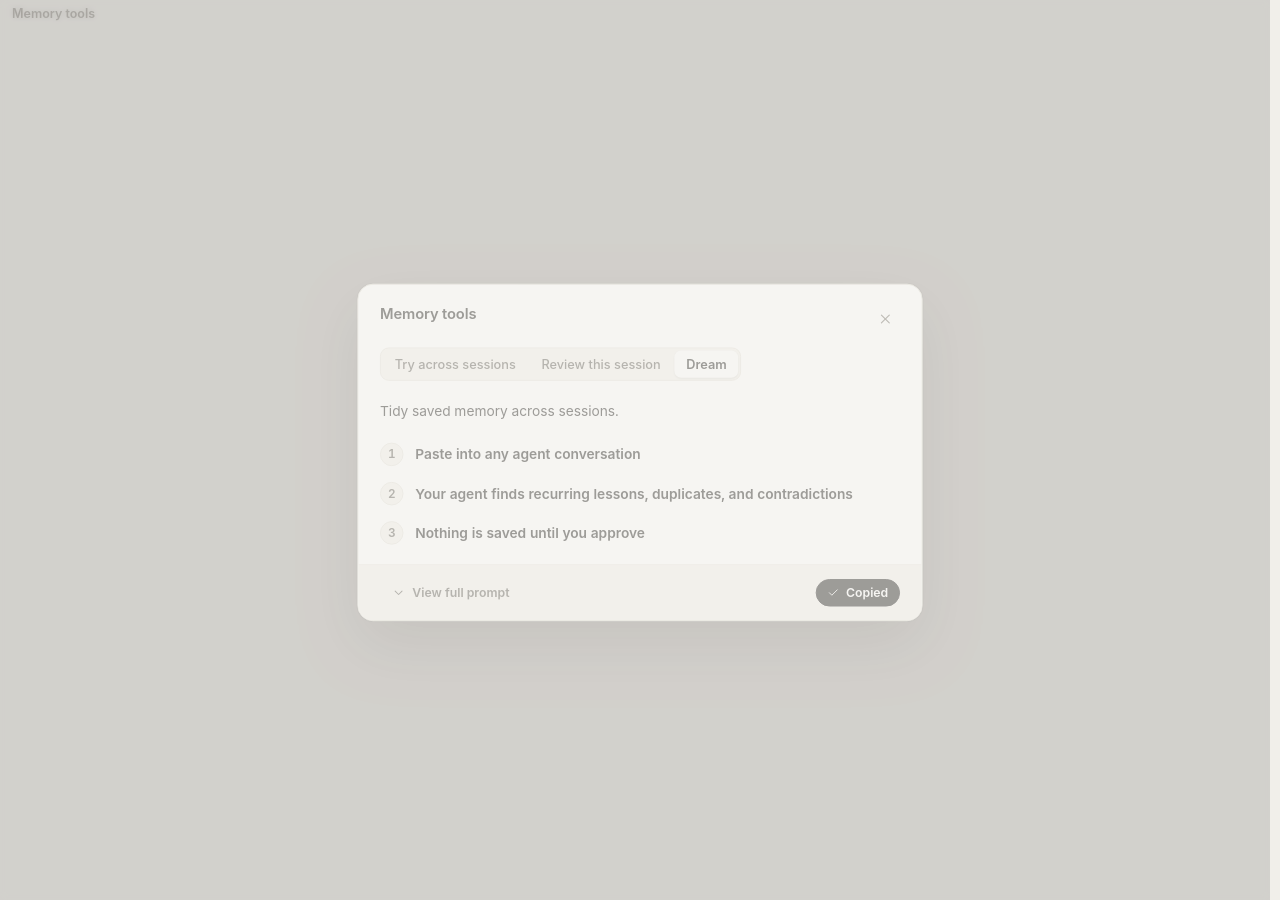
does not copy a guessed scope with failed overview
What coordinates should you click on to do the following:
click the button "Memory tools"
I would click on:
 (54, 14)
Its box is [0,0,107,28].
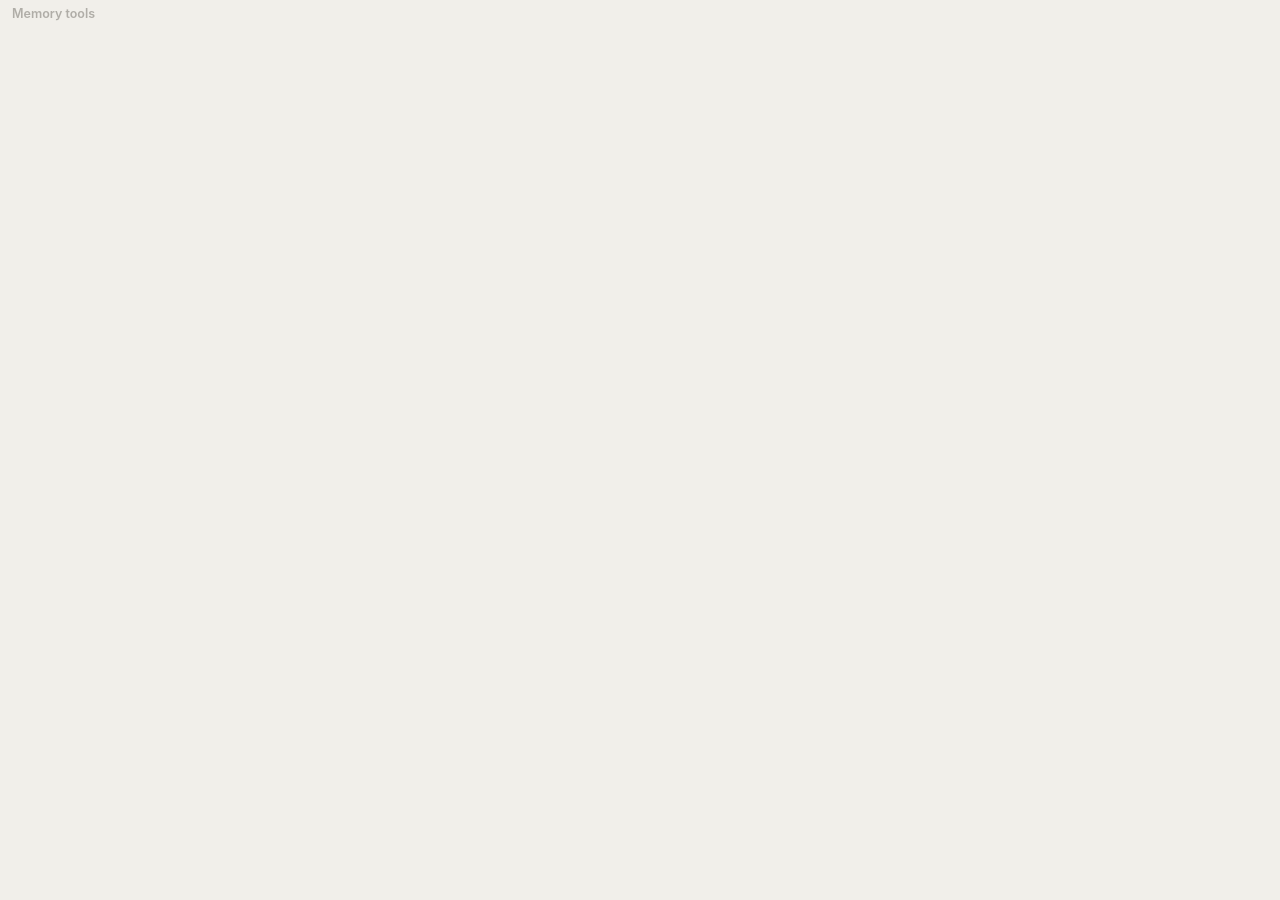
Expected: the dialog is gone
